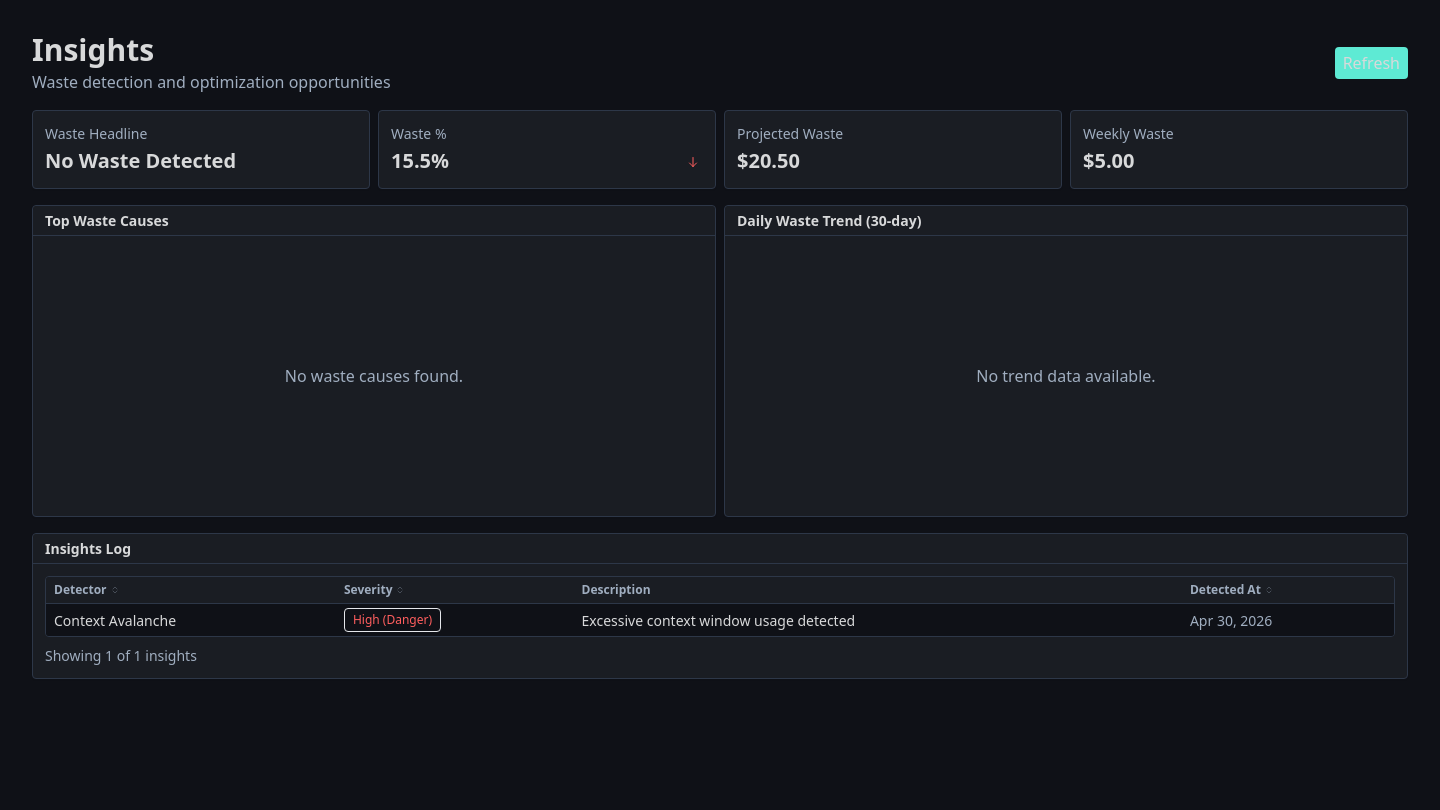
Scenario: Insights Page › opens and closes insight detail modal
Check: the text "Insight Details" is not shown
Click the button "Context Avalanche" at coordinates (720, 620), box [46, 604, 1394, 636]
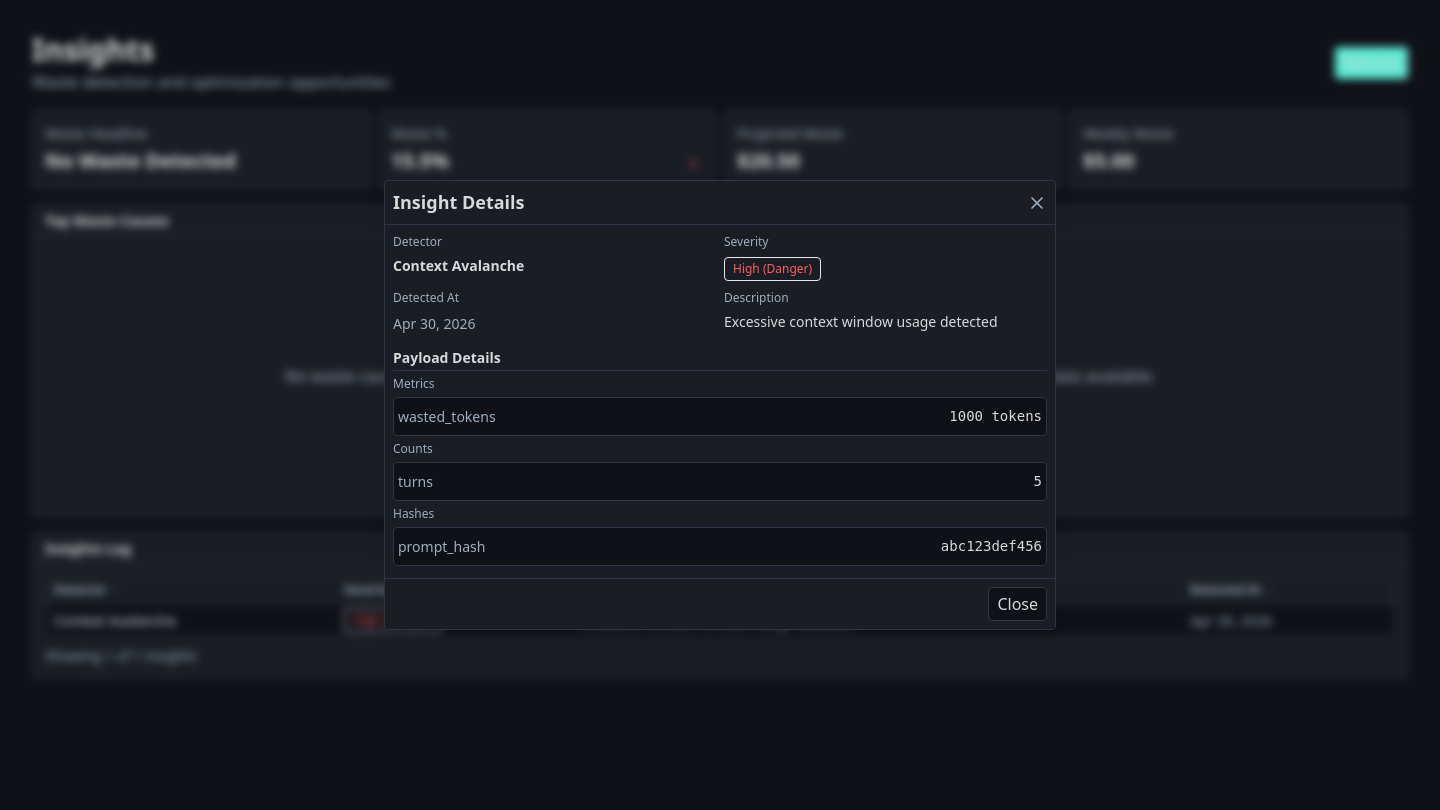
Check: the heading "Insight Details" is shown, box [393, 189, 524, 216]
Check: the heading "Payload Details" is shown, box [393, 347, 1047, 371]
Check: the text "wasted_tokens" is shown, box [398, 406, 496, 427]
Click the button "Close" at coordinates (1018, 604), box [988, 587, 1047, 621]
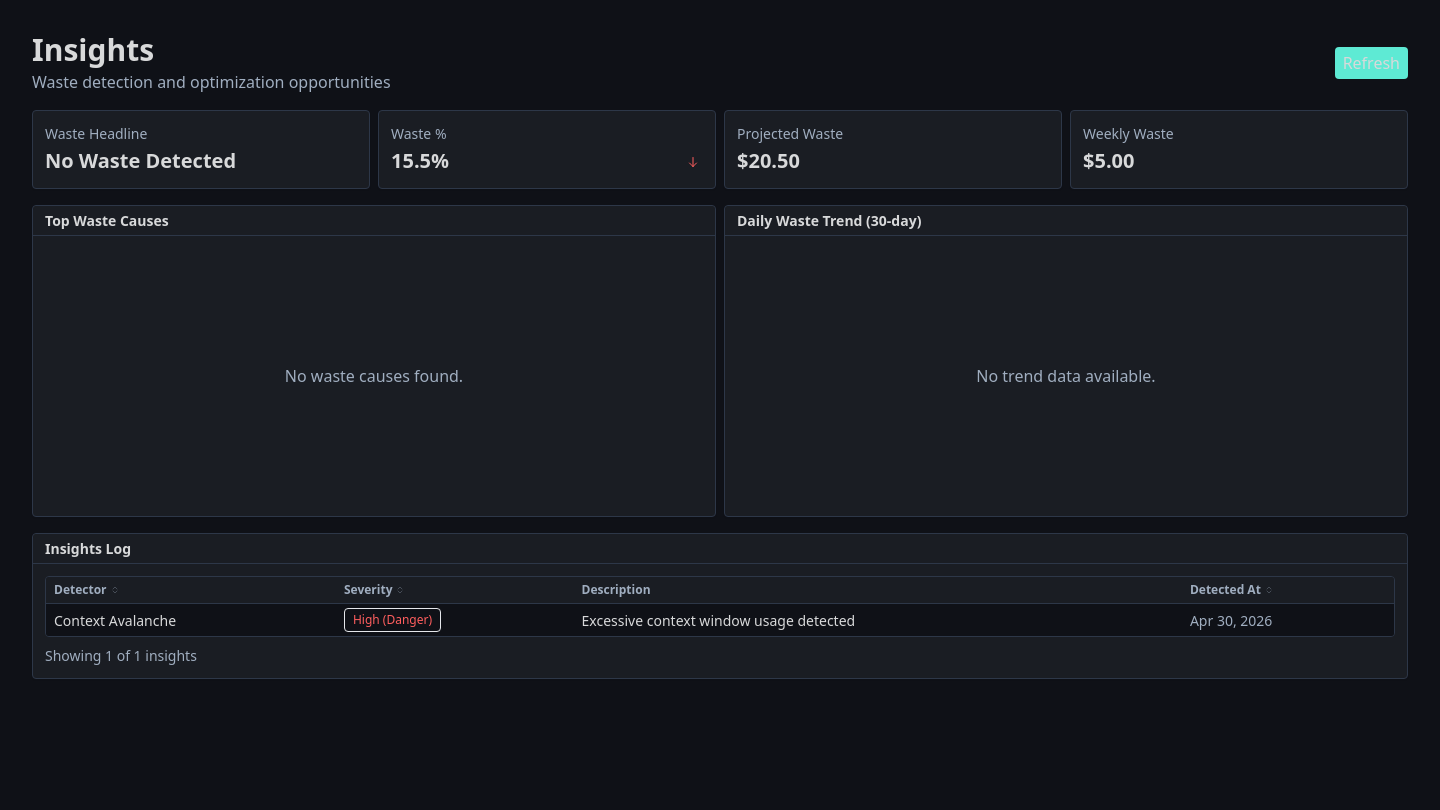
Check: the heading "Insight Details" is gone
